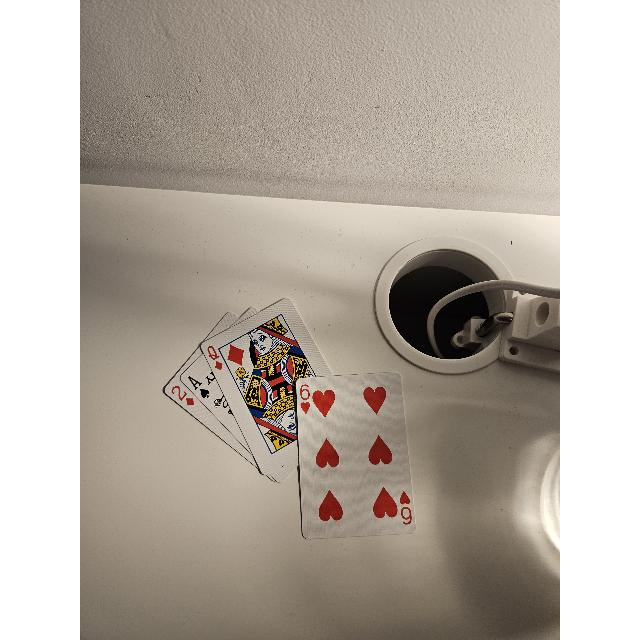2D: (171, 384, 197, 406)
6H: (397, 490, 413, 526), (299, 384, 315, 416)
AS: (188, 376, 210, 398)
QD: (209, 346, 225, 368)
